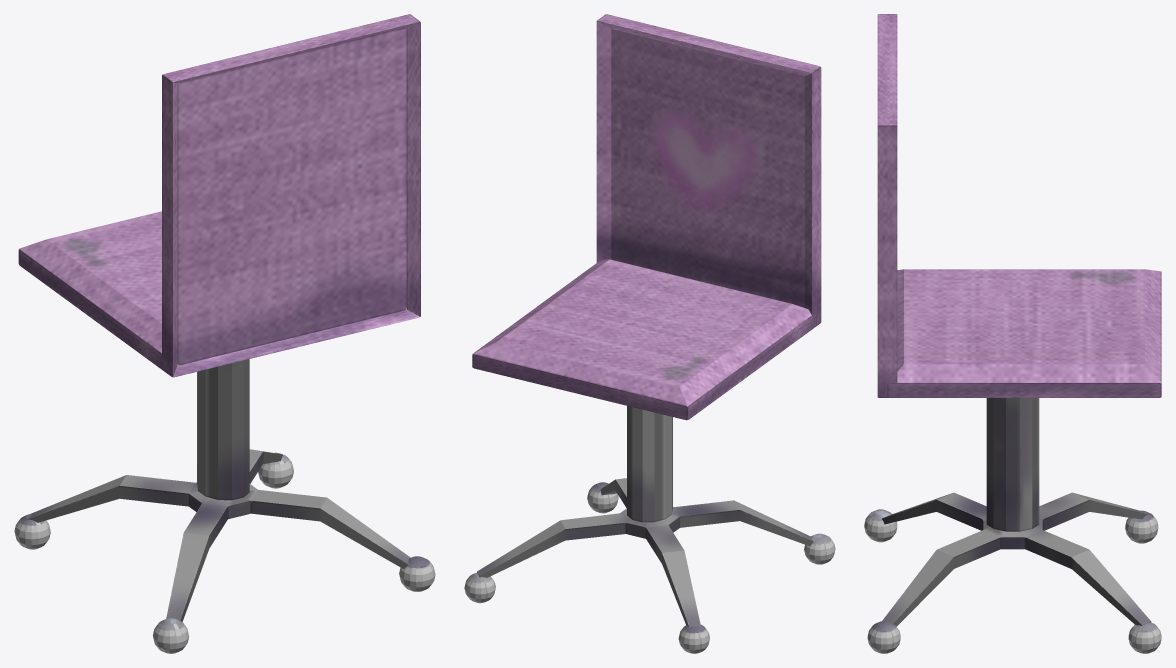
Rendered from silla.fbx.
3 views of the same model, side by side, from view 1: azimuth 30°, elevation 25°; view 2: azimuth 150°, elevation 25°; view 3: azimuth 270°, elevation 25° (orthographic). The views are drawn at different scales.
Parts seen in each view (by area): view 1: cube_1, cube, cylinder_1, cylinder, sphere_2, sphere_1, sphere_3, sphere; view 2: cube_1, cube, cylinder_1, cylinder, sphere_3, sphere_2, sphere, sphere_1; view 3: cube, cylinder_1, cube_1, cylinder, sphere_1, sphere, sphere_2, sphere_3.
Boxes of the visible parts, x1,y1,x2,y2 form: cube_1: (162, 14, 420, 377); cube: (18, 211, 406, 372); cylinder_1: (26, 449, 410, 621); cylinder: (197, 359, 249, 500); sphere_2: (153, 618, 189, 653); sphere_1: (399, 556, 435, 591); sphere_3: (14, 514, 50, 549); sphere: (258, 452, 293, 488); cube_1: (596, 14, 821, 326); cube: (472, 259, 816, 420); cylinder_1: (477, 478, 813, 632); cylinder: (627, 406, 672, 522); sphere_3: (678, 624, 709, 653); sphere_2: (804, 533, 835, 564); sphere: (464, 572, 495, 603); sphere_1: (587, 482, 618, 513); cube: (887, 269, 1161, 397); cylinder_1: (882, 492, 1151, 626); cube_1: (877, 14, 897, 397); cylinder: (986, 398, 1039, 531); sphere_1: (867, 621, 900, 653); sphere: (1128, 622, 1161, 653); sphere_2: (864, 509, 897, 542); sphere_3: (1125, 510, 1158, 543).
Size of the model in its own units: 56.25 by 110 by 56.25.
1 material, 1 textured.
